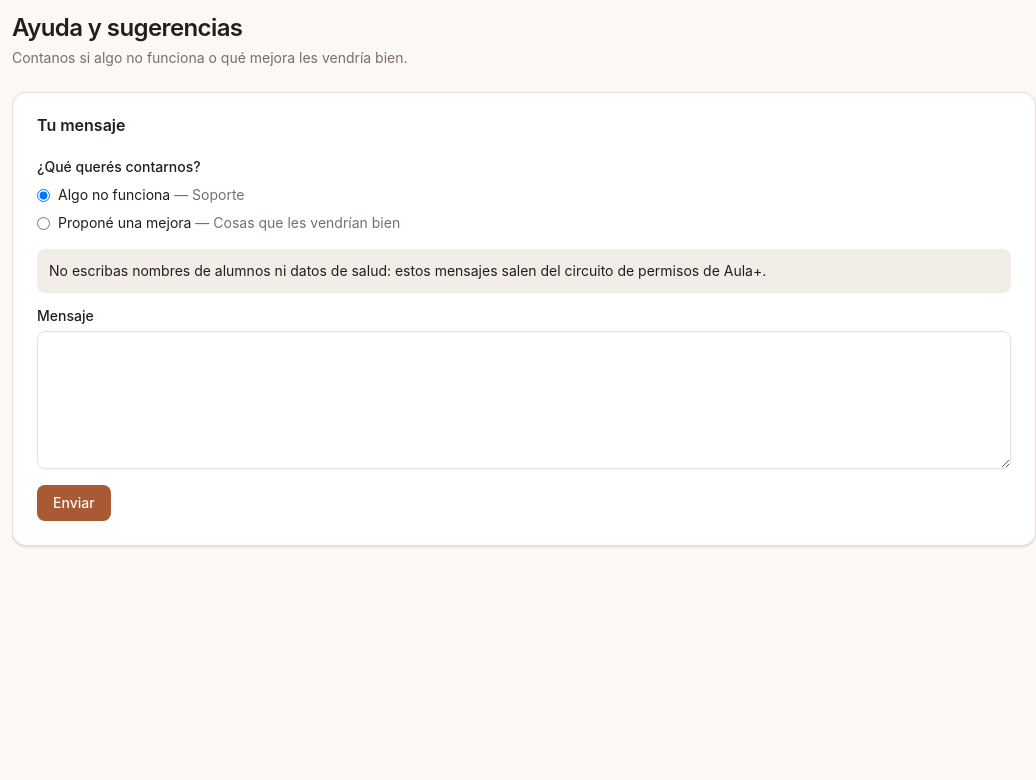
Scenario: SupportPage › sends the chosen kind, the message and the originating screen
Click the radio button labelled "Proponé una mejora — Cosas que les vendrían bien" at point(44, 223), box [37,216,50,230]
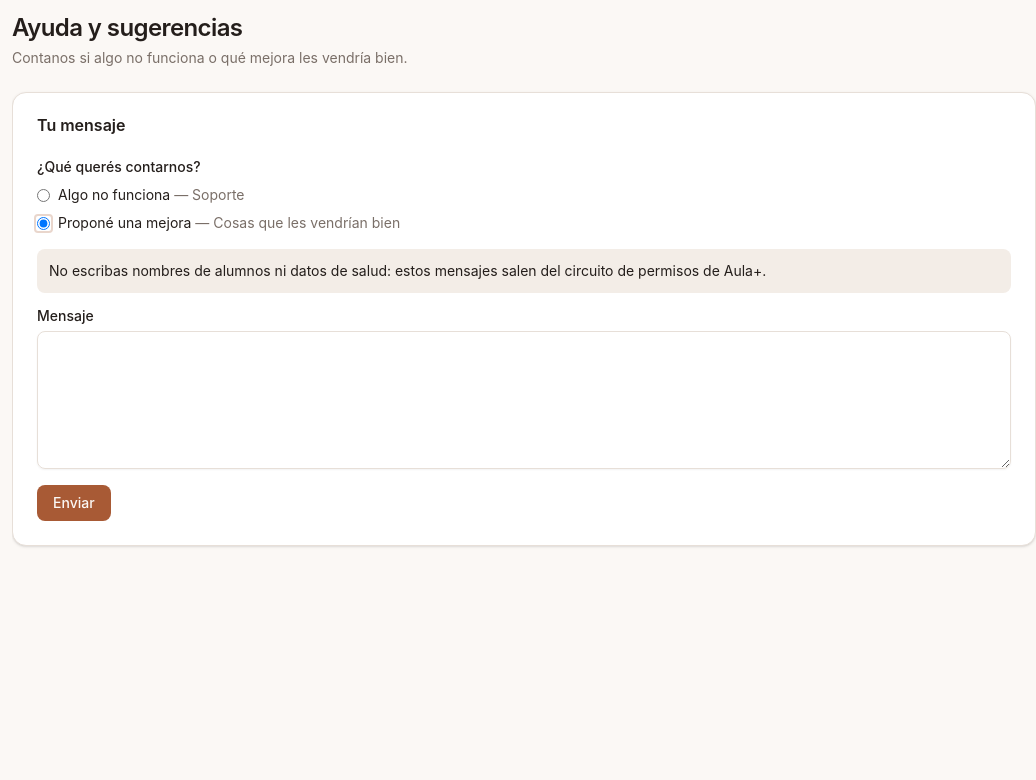
Type "Poder imprimir la ficha" into the text box labelled "Mensaje" at point(524, 400), box [37,331,1011,469]
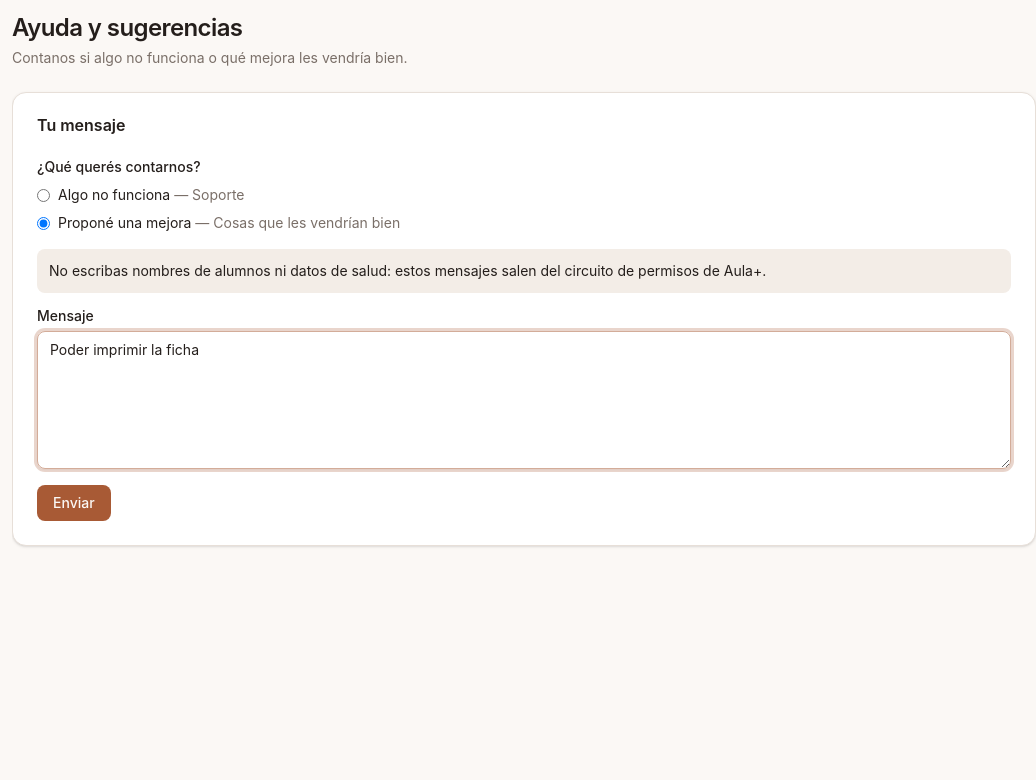
Click the button "Enviar" at point(74, 503), box [37,485,111,521]
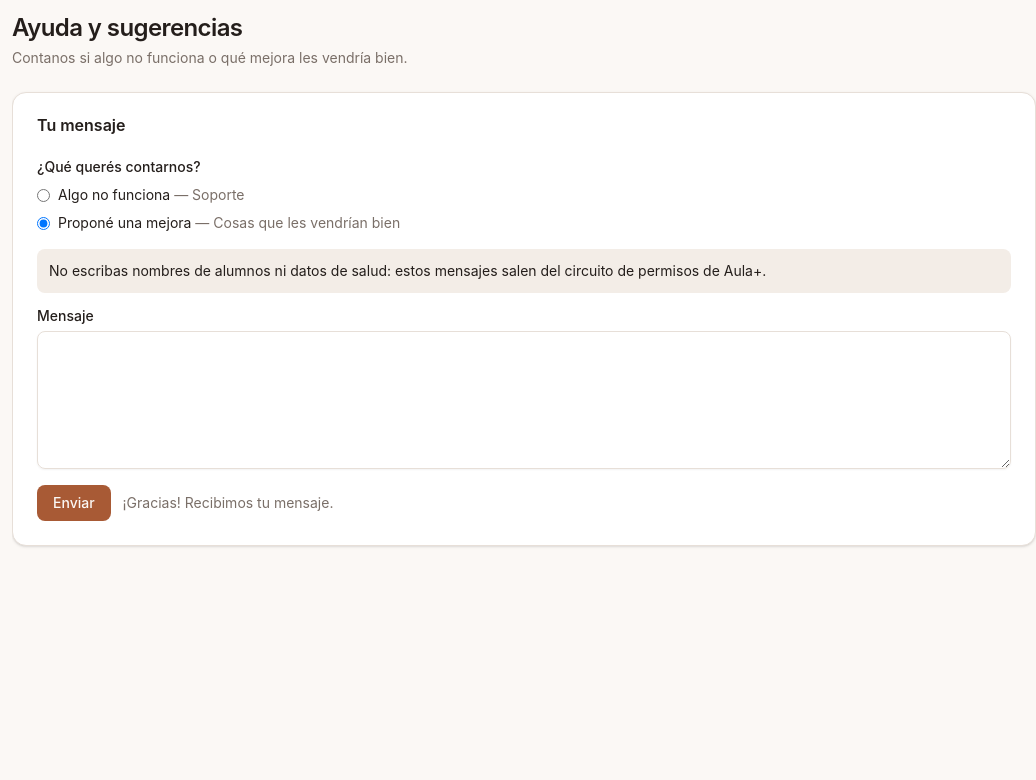
expect the text "¡Gracias! Recibimos tu mensaje." is shown: met, box [123,493,333,513]
